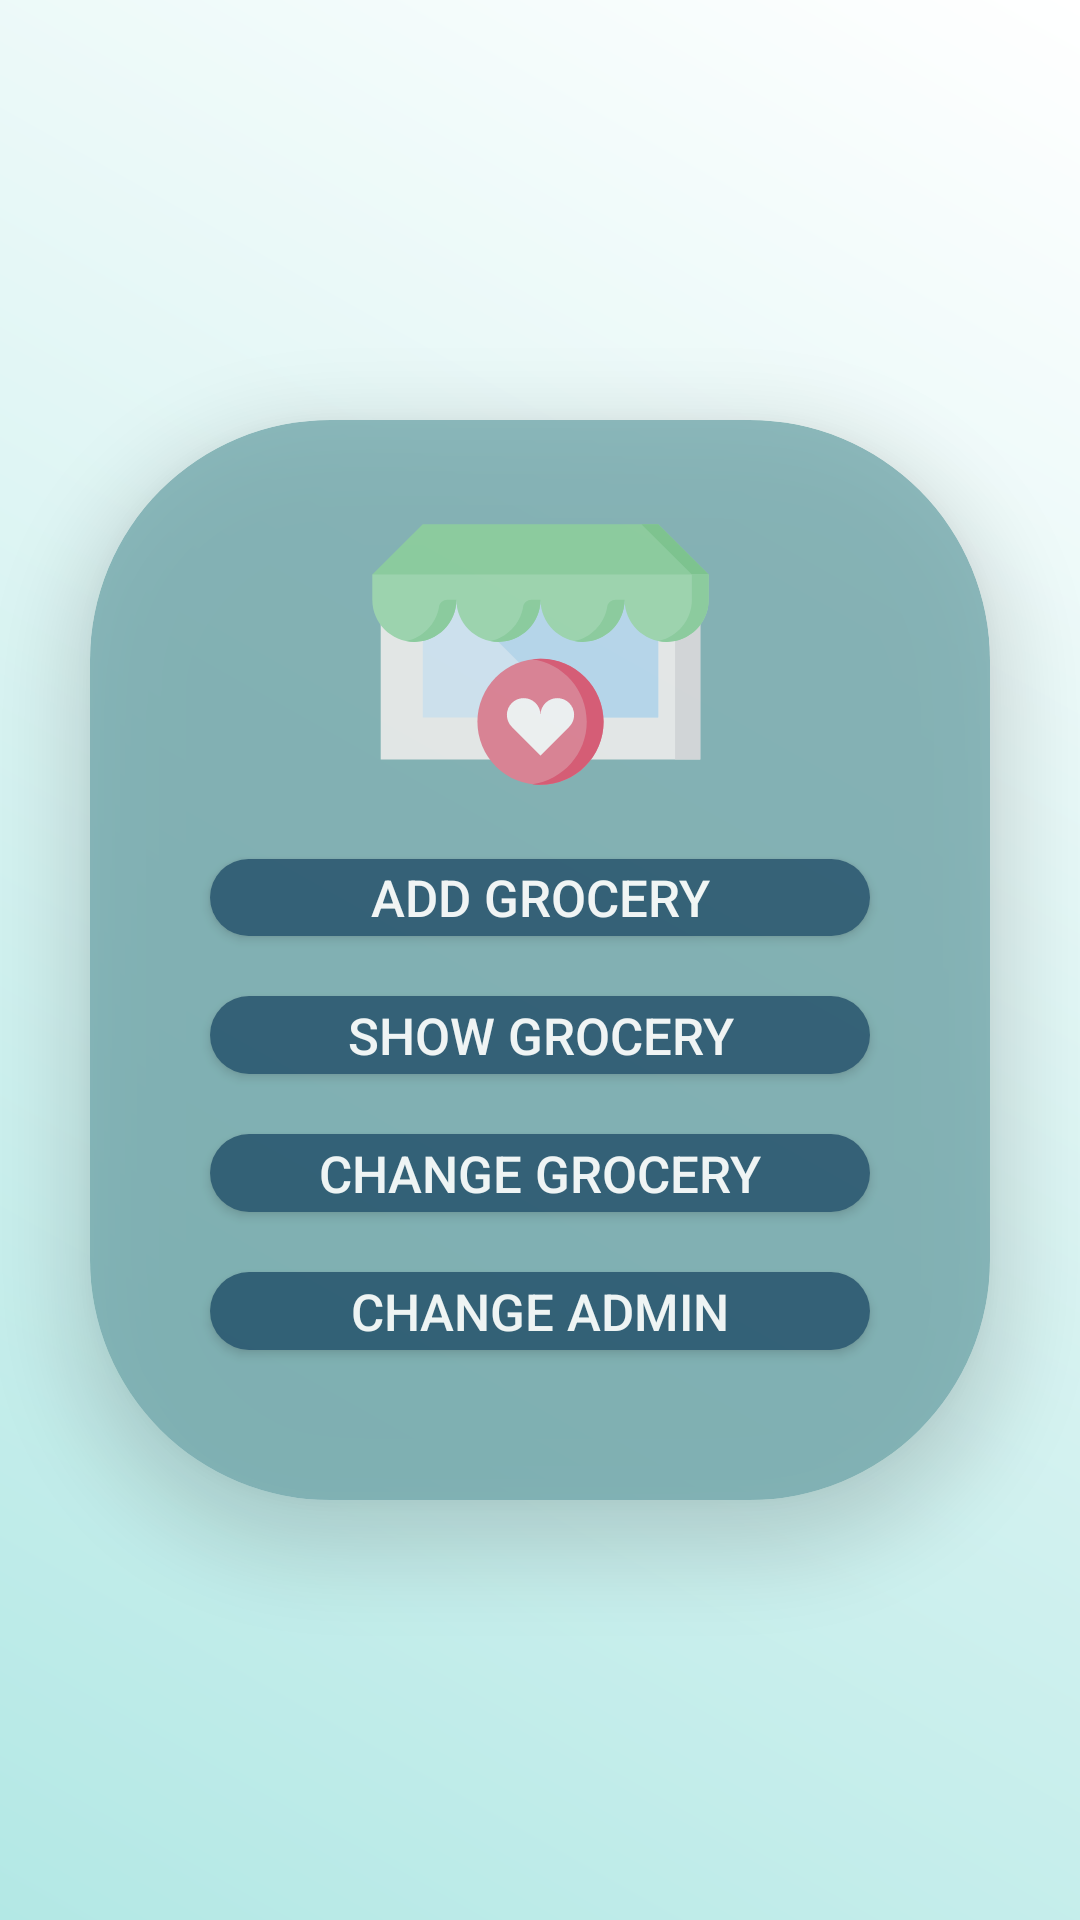

Named icons in this screenshot (1080 × 1920) and their bounding boxes, [left=x1, top=y1, right=x2, bottom=y2]:
supermarket: [left=373, top=524, right=709, bottom=785]
